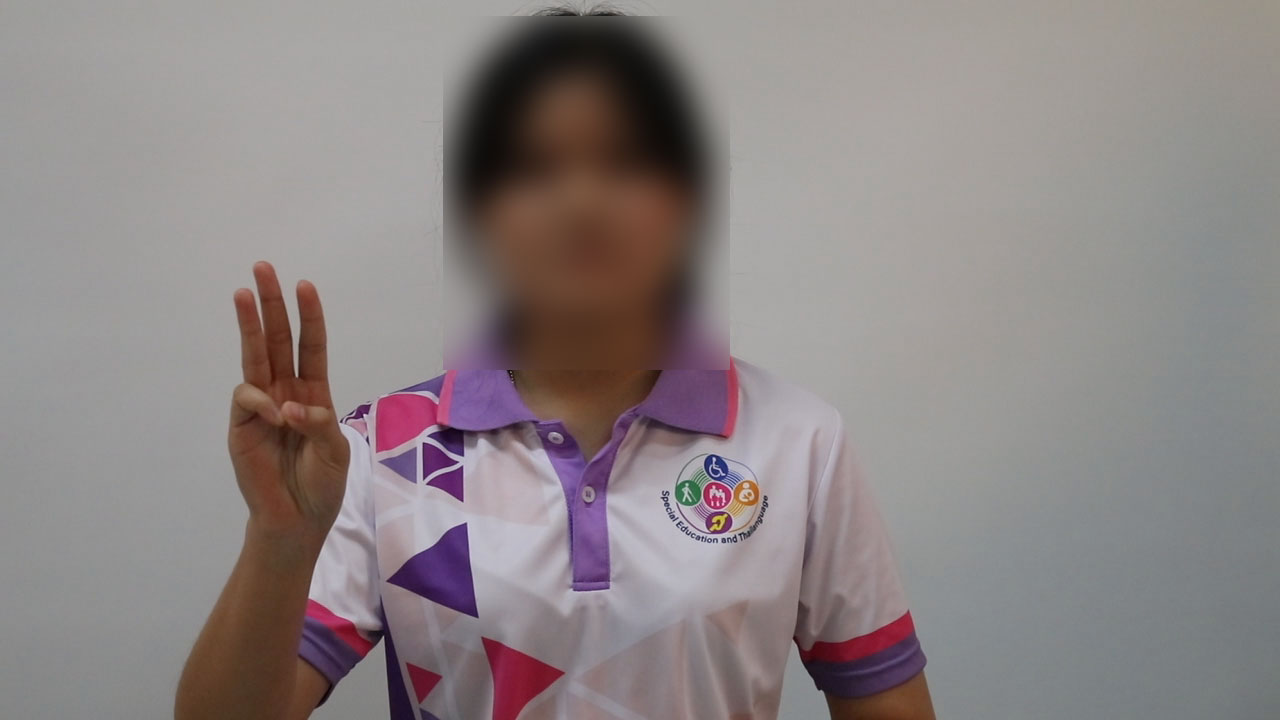wor: (211, 249, 357, 559)
